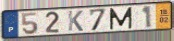1: (141, 5, 152, 30)
2: (44, 11, 60, 34)
5: (21, 11, 40, 35)
7: (89, 7, 108, 32)
K: (67, 10, 85, 32)
M: (108, 6, 133, 31)
